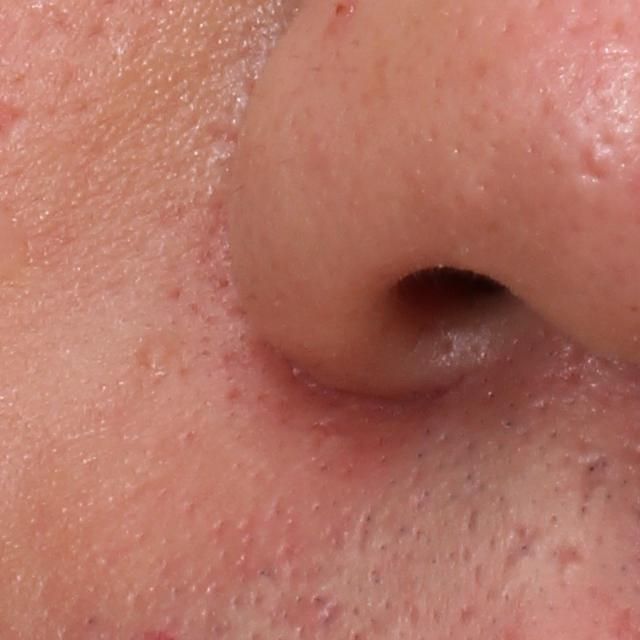atrophic_scar: (501, 525, 546, 584), (579, 452, 614, 517), (576, 142, 607, 188), (557, 539, 585, 584), (355, 504, 375, 558)
